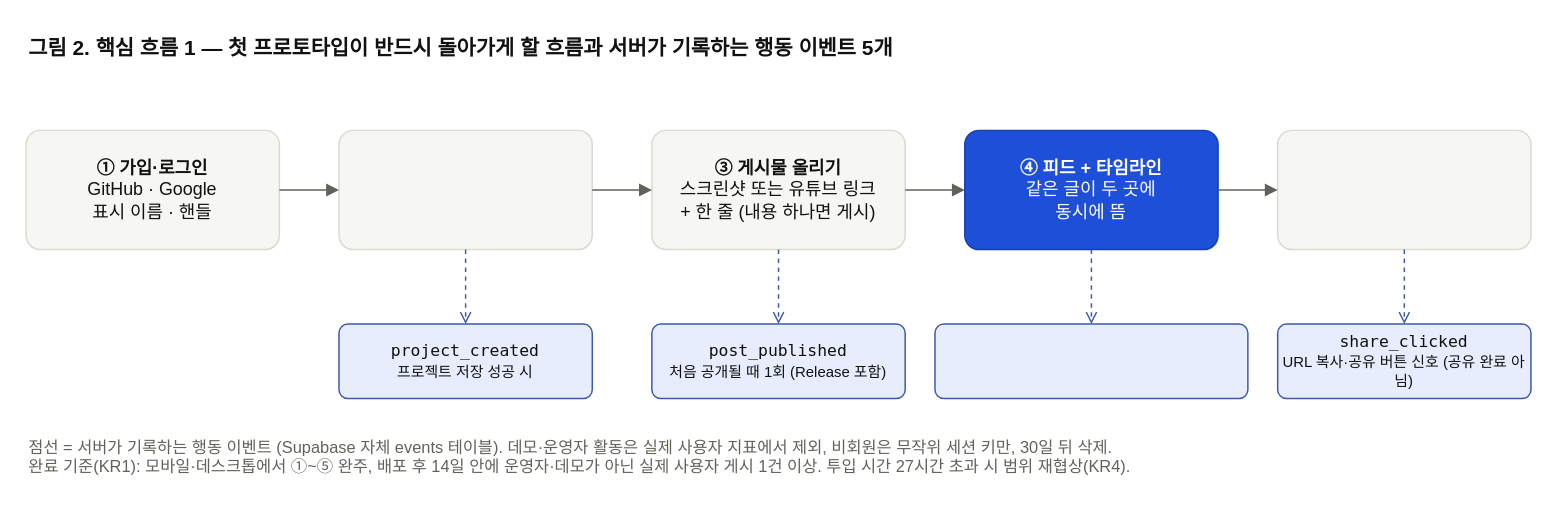
The diagram is 1557 pixels wide and 527 high, and some of its shapes have lost their labels. The shapes that lost their labels are listed below. From the top down, each one's centre as x and y in pixels, then its label:
At point 464,189: "② 프로젝트 만들기 이름 · 한 줄 소개 · 기술".
At point 1403,189: "⑤ 공개 링크 공유 프로젝트 페이지 URL 복사 (이름을 바꿔도 안 변함)".
At point 1090,361: "project_viewed · project_followed 방문자의 열람·팔로우 (팔로우는 1차 최소 동작)".
